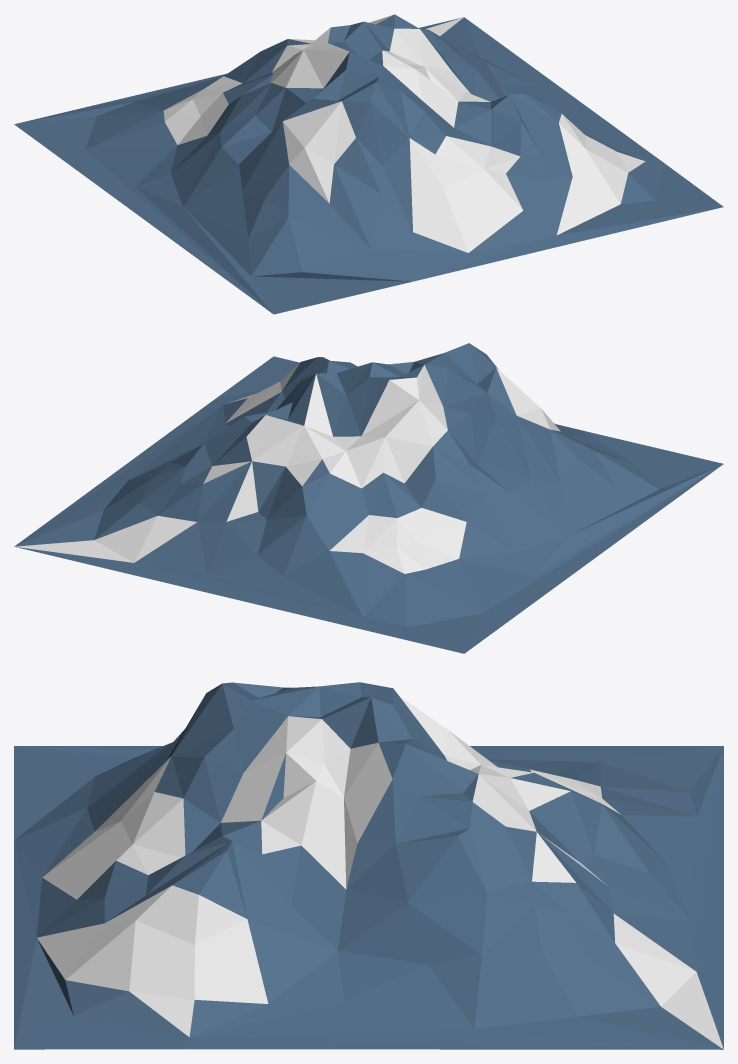
The model's file is mountain 5.fbx.
3 renders of one model, top to bottom at view 1: azimuth 30°, elevation 25°; view 2: azimuth 150°, elevation 25°; view 3: azimuth 270°, elevation 25°, orthographic. The views are drawn at different scales.
Parts seen in each view (by area): view 1: Landscape.001; view 2: Landscape.001; view 3: Landscape.001.
Part boxes in pixels (x1,y1,x2,y2): Landscape.001: (14, 14, 723, 314); Landscape.001: (14, 343, 723, 653); Landscape.001: (14, 682, 723, 1049).
Size of the model in its own units: 79.06 by 24.49 by 79.
